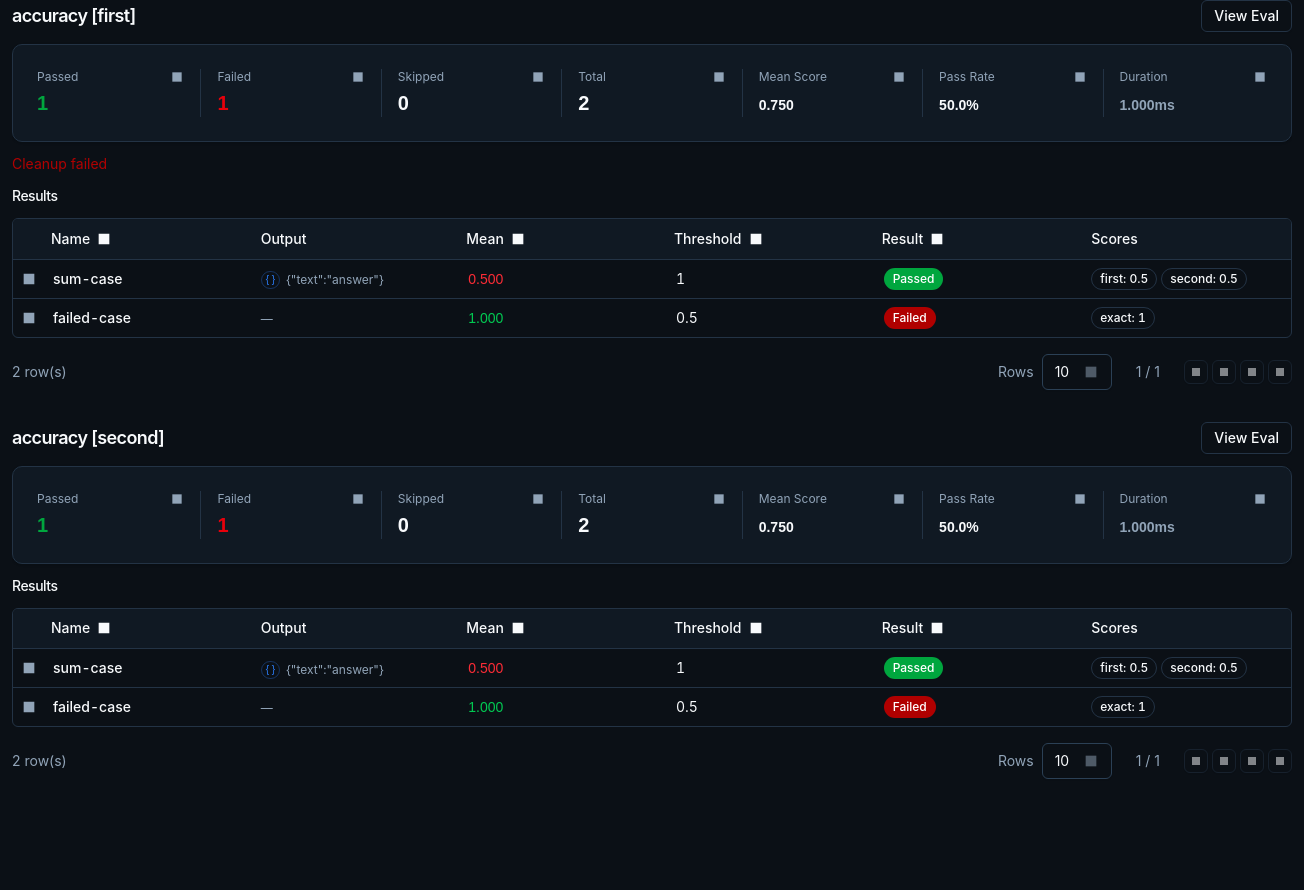
Test: ResultsDetail › should render project variants and final outcomes: details
Click the 1st text "sum-case": (88, 278) [53,270,122,286]
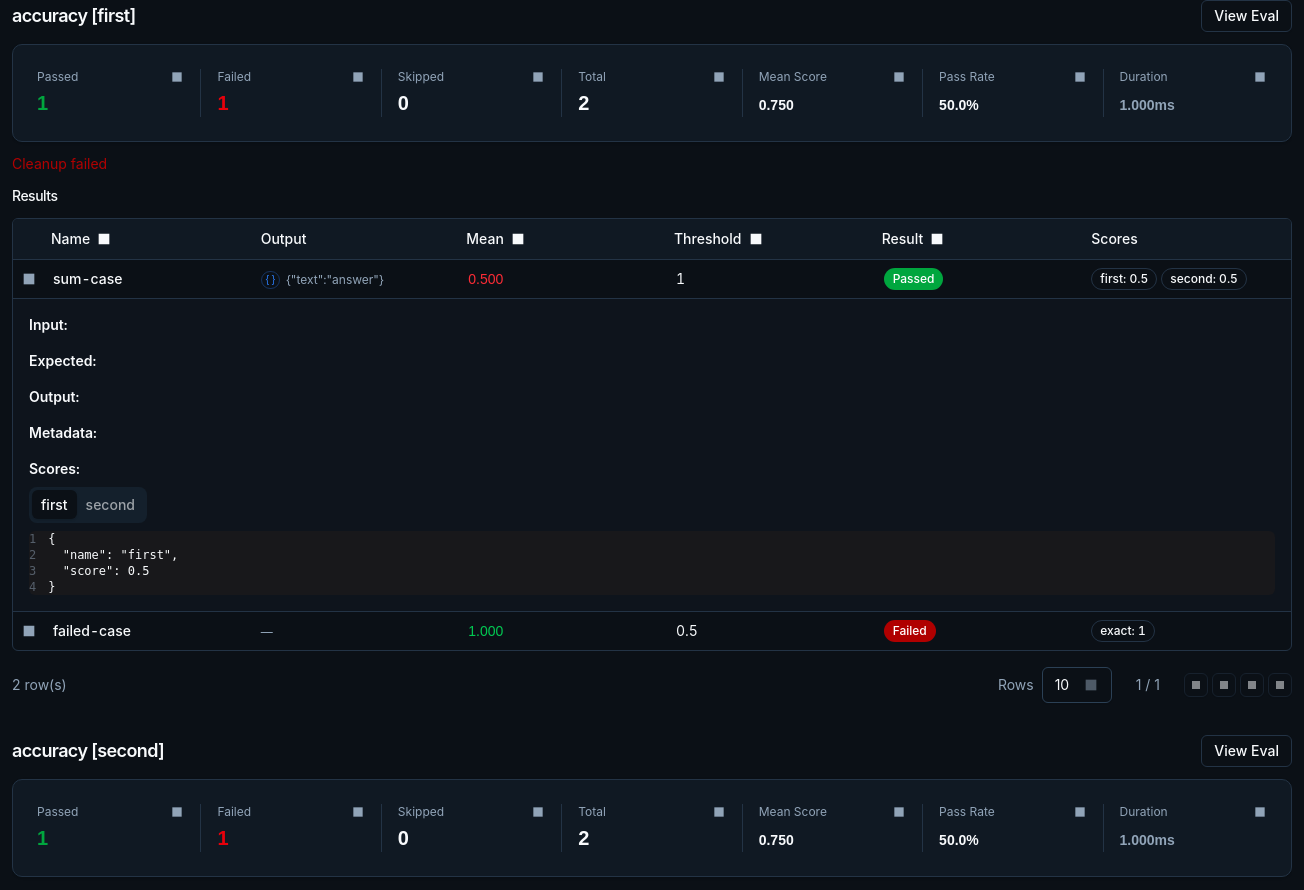
Check: the heading "Input:" is shown, box [29,316,68,332]
Check: the heading "Expected:" is shown, box [29,352,96,368]
Check: the heading "Output:" is shown, box [29,388,79,404]
Click the text "failed-case": (92, 630) [53,622,131,638]
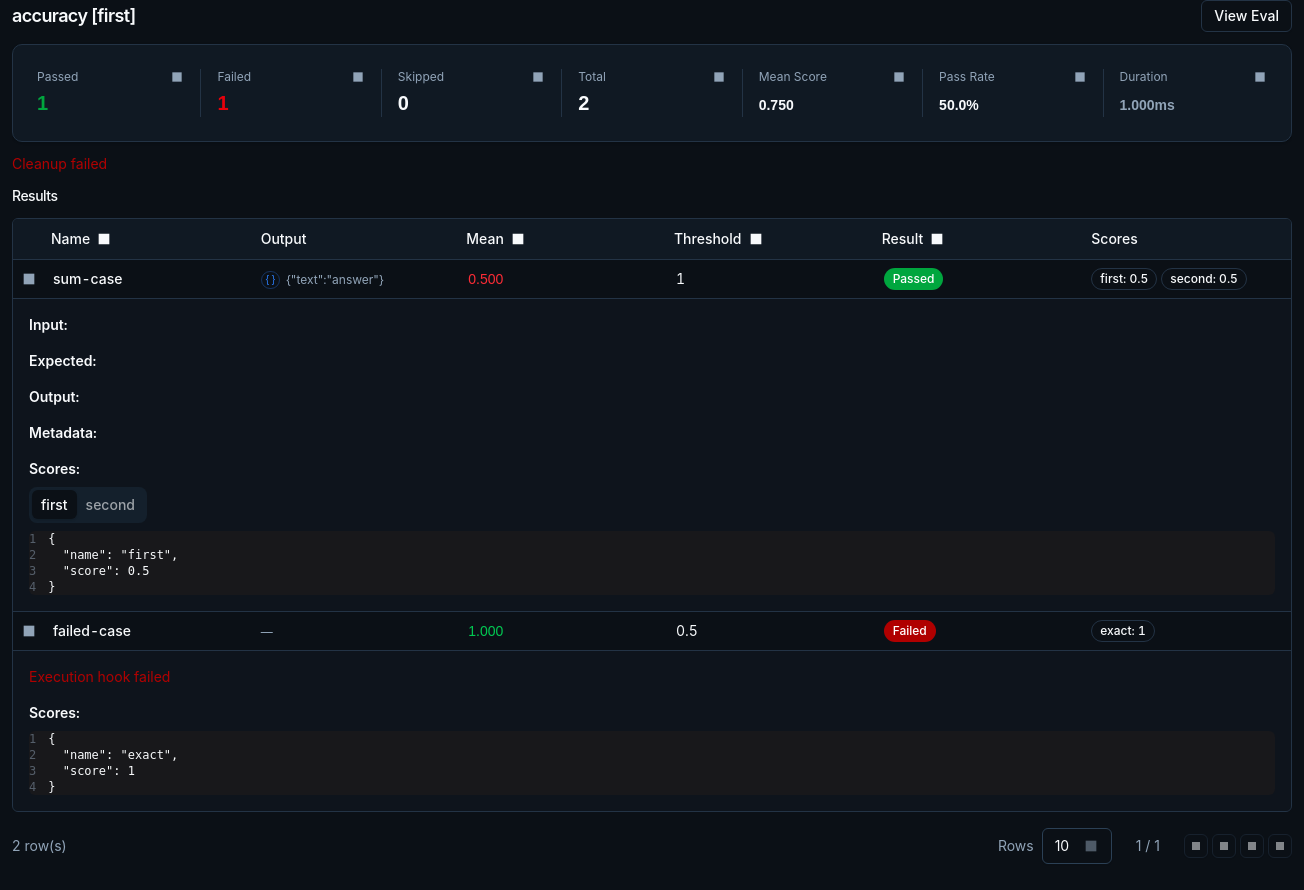
Check: the text "Execution hook failed" is shown, box [29,668,170,684]
